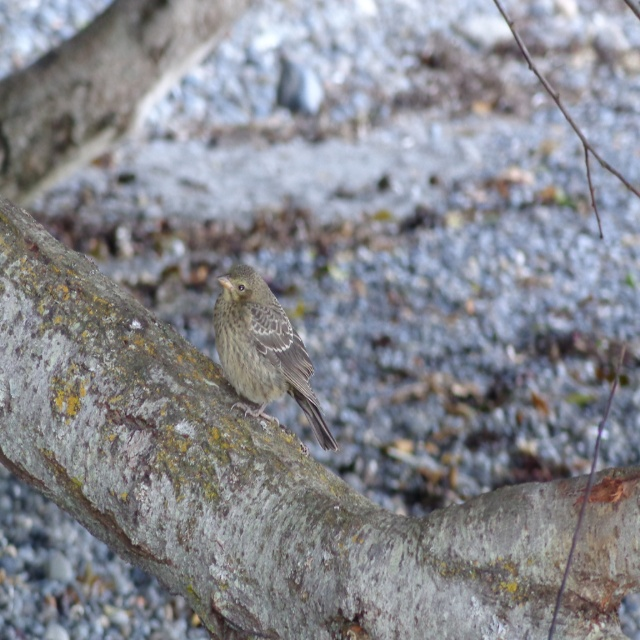Sparrow: (212, 262, 339, 451)
